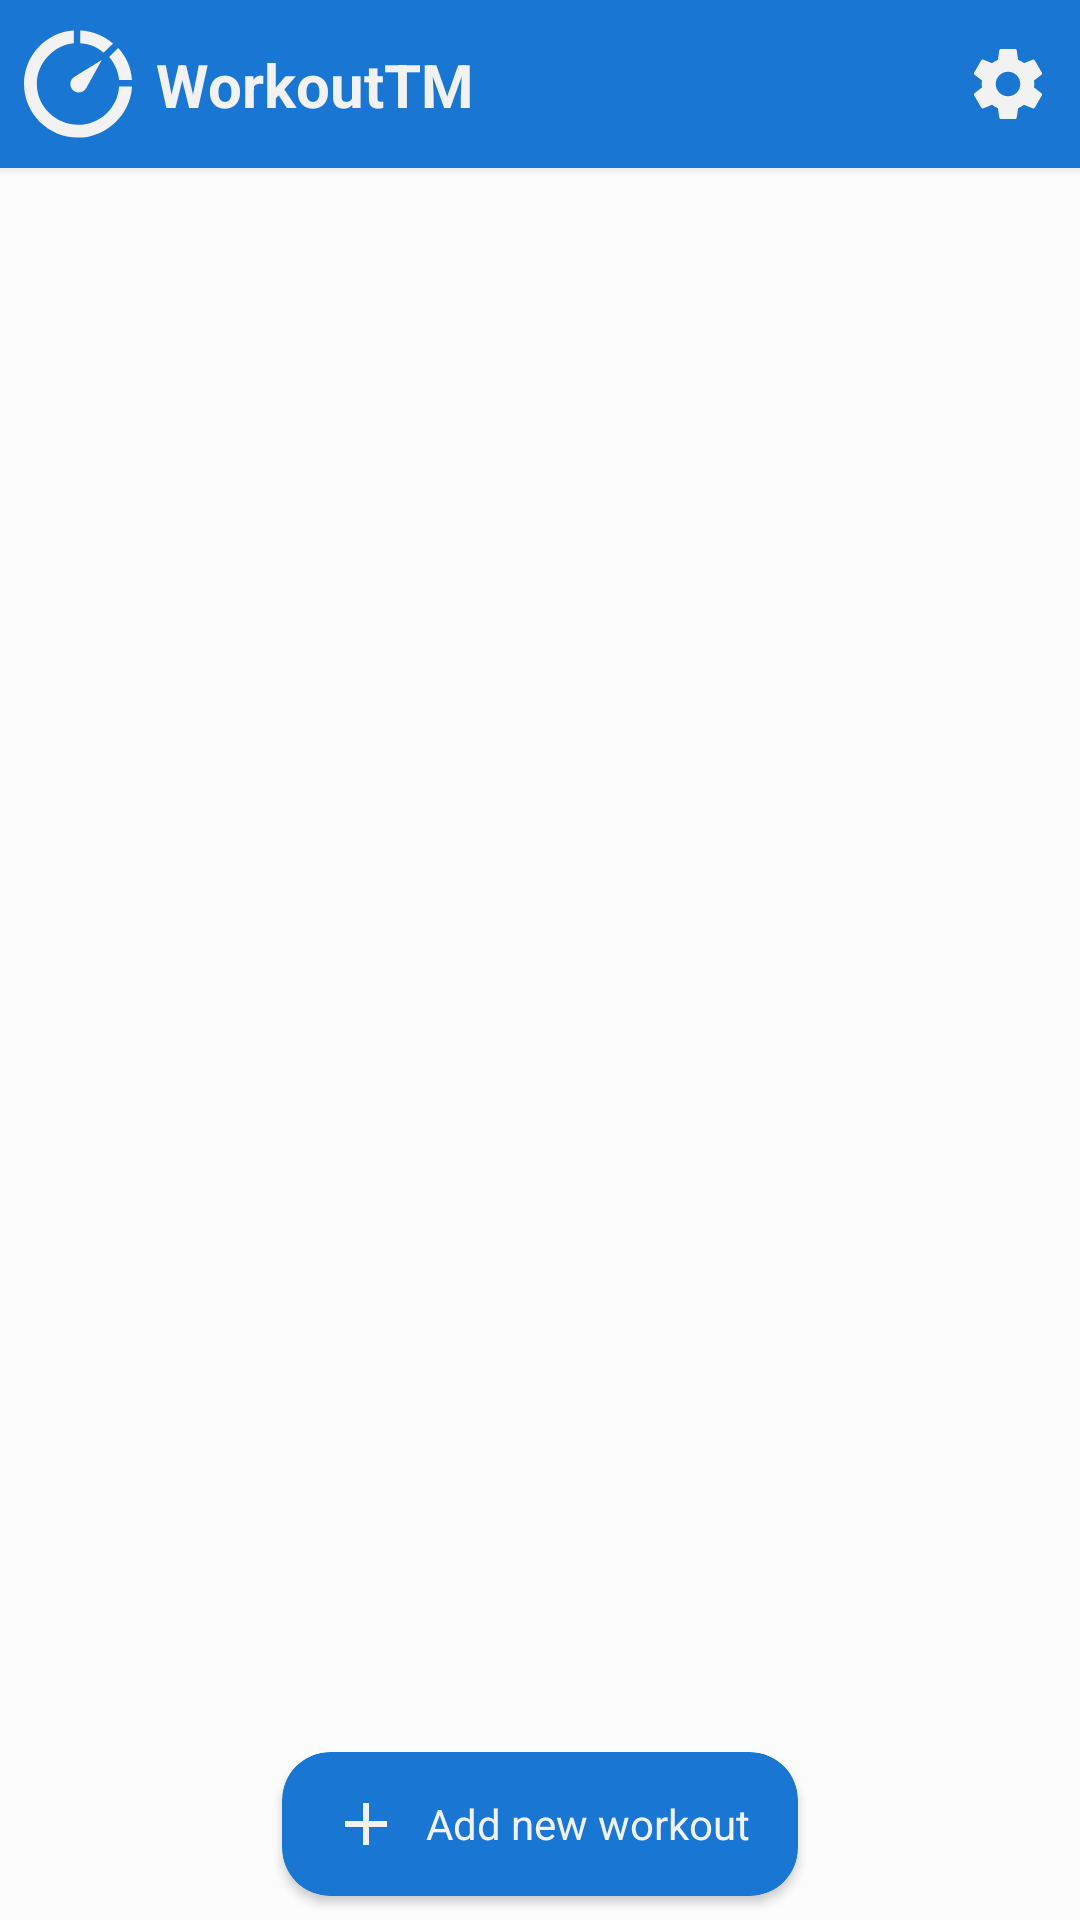

Screen size 1080*1920. Icon name, then its center in pixels as [x,y]:
settings: [1008,84]
